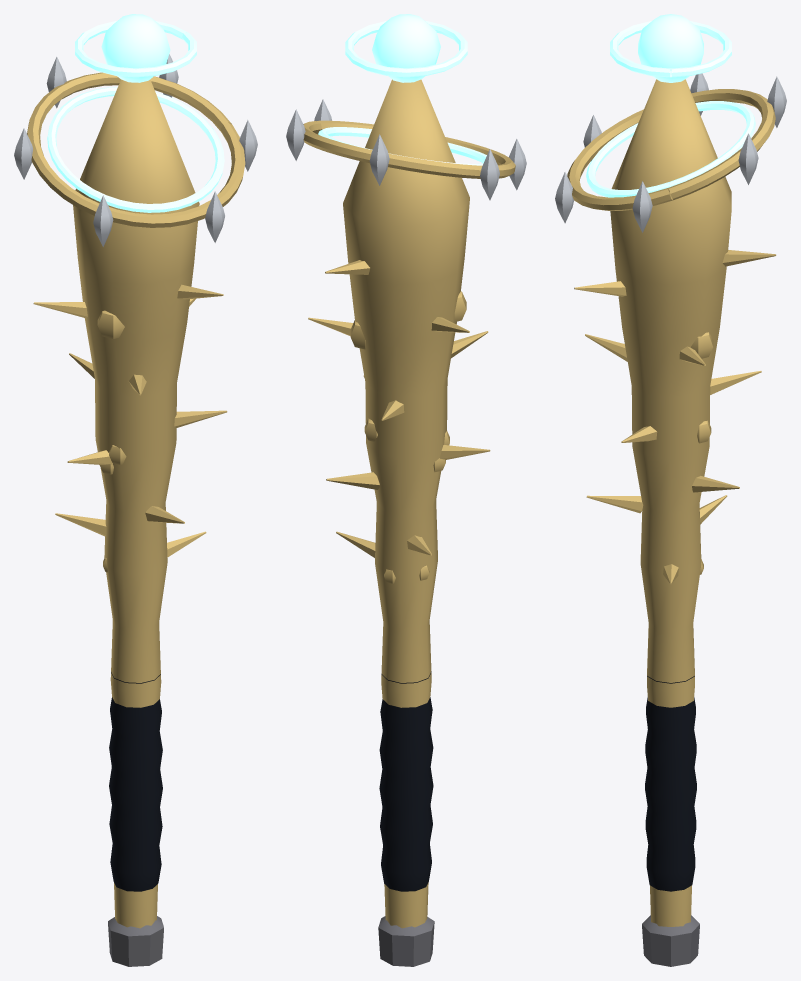
Rendered from esc_w_knight_club_3.glb.
The picture shows the model from 3 angles, left to right: view 1: azimuth 30°, elevation 25°; view 2: azimuth 150°, elevation 25°; view 3: azimuth 270°, elevation 25°; orthographic projection.
Parts seen in each view (by area): view 1: esc_w_knight_club_3; view 2: esc_w_knight_club_3; view 3: esc_w_knight_club_3.
Boxes of the visible parts, left/top/right/bottom form: esc_w_knight_club_3: left=14, top=14, right=257, bottom=966; esc_w_knight_club_3: left=286, top=14, right=526, bottom=966; esc_w_knight_club_3: left=555, top=14, right=786, bottom=966.
Size of the model in its own units: 0.2123 by 0.905 by 0.2005.
